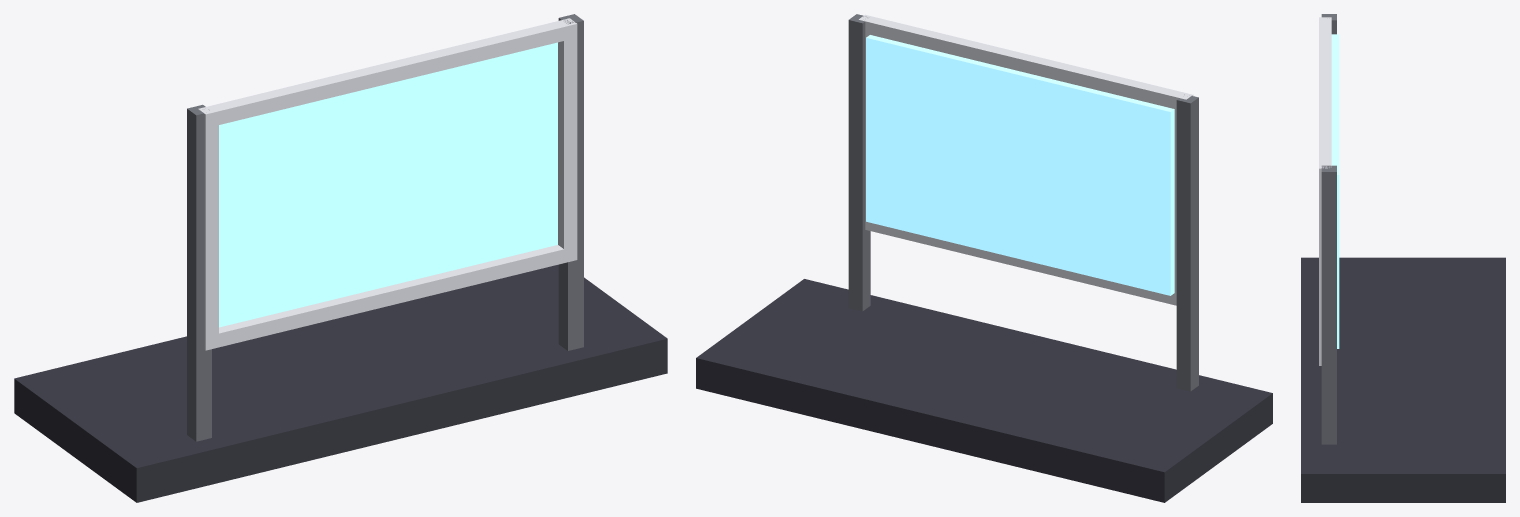
The model's file is bb_set_ceremonyscreen.fbx.
3 views of the same model, side by side, from view 1: azimuth 30°, elevation 25°; view 2: azimuth 150°, elevation 25°; view 3: azimuth 270°, elevation 25° (orthographic). The views are drawn at different scales.
Visible parts, largest first — view 1: bb_set_ceremonyscreen; view 2: bb_set_ceremonyscreen; view 3: bb_set_ceremonyscreen.
Part boxes in pixels (left/top/right/bottom): bb_set_ceremonyscreen: left=14, top=14, right=667, bottom=502; bb_set_ceremonyscreen: left=696, top=14, right=1272, bottom=502; bb_set_ceremonyscreen: left=1301, top=14, right=1505, bottom=502.
Bounding box in the file's own units: 4 × 2.6 × 1.6.
